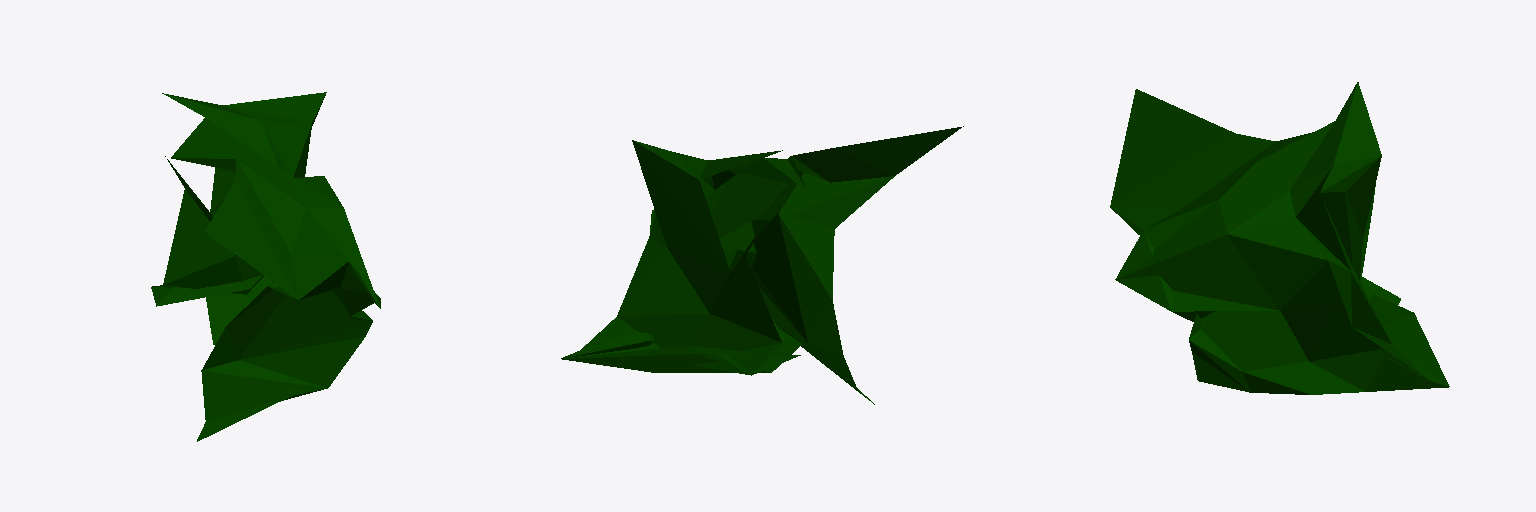
The model's file is wallmoss_3.obj.
3 views of the same model, side by side, from view 1: azimuth 30°, elevation 25°; view 2: azimuth 150°, elevation 25°; view 3: azimuth 270°, elevation 25° (orthographic).
Parts seen in each view (by area): view 1: Cube.037_Cube.038; view 2: Cube.037_Cube.038; view 3: Cube.037_Cube.038.
Part boxes in pixels (x1,y1,x2,y2): Cube.037_Cube.038: (151,92,380,441); Cube.037_Cube.038: (561,126,963,404); Cube.037_Cube.038: (1110,82,1449,394).
Size of the model in its own units: 0.3346 by 0.3823 by 0.3982.